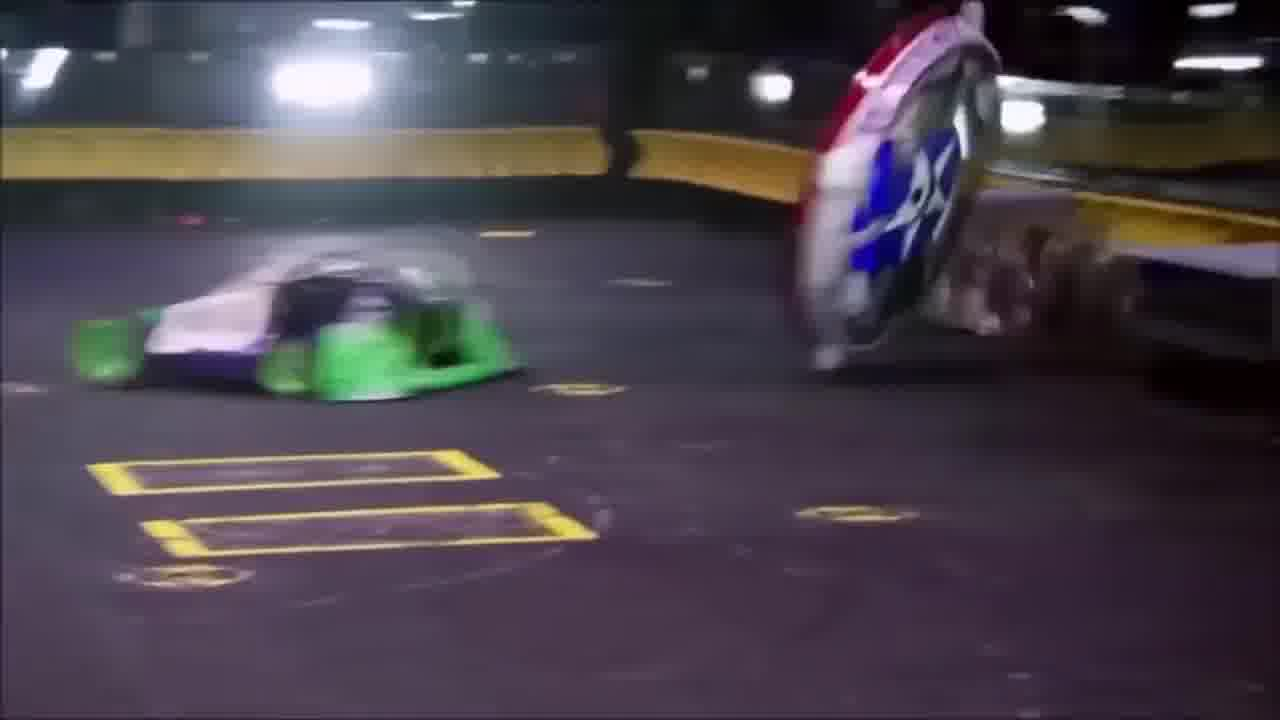combatbot: (73, 231, 529, 405), (788, 0, 1001, 372)
